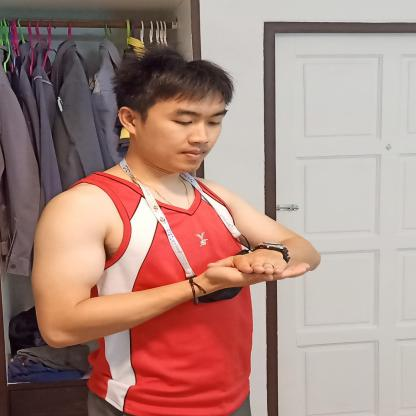Love: (145, 220, 355, 327)
